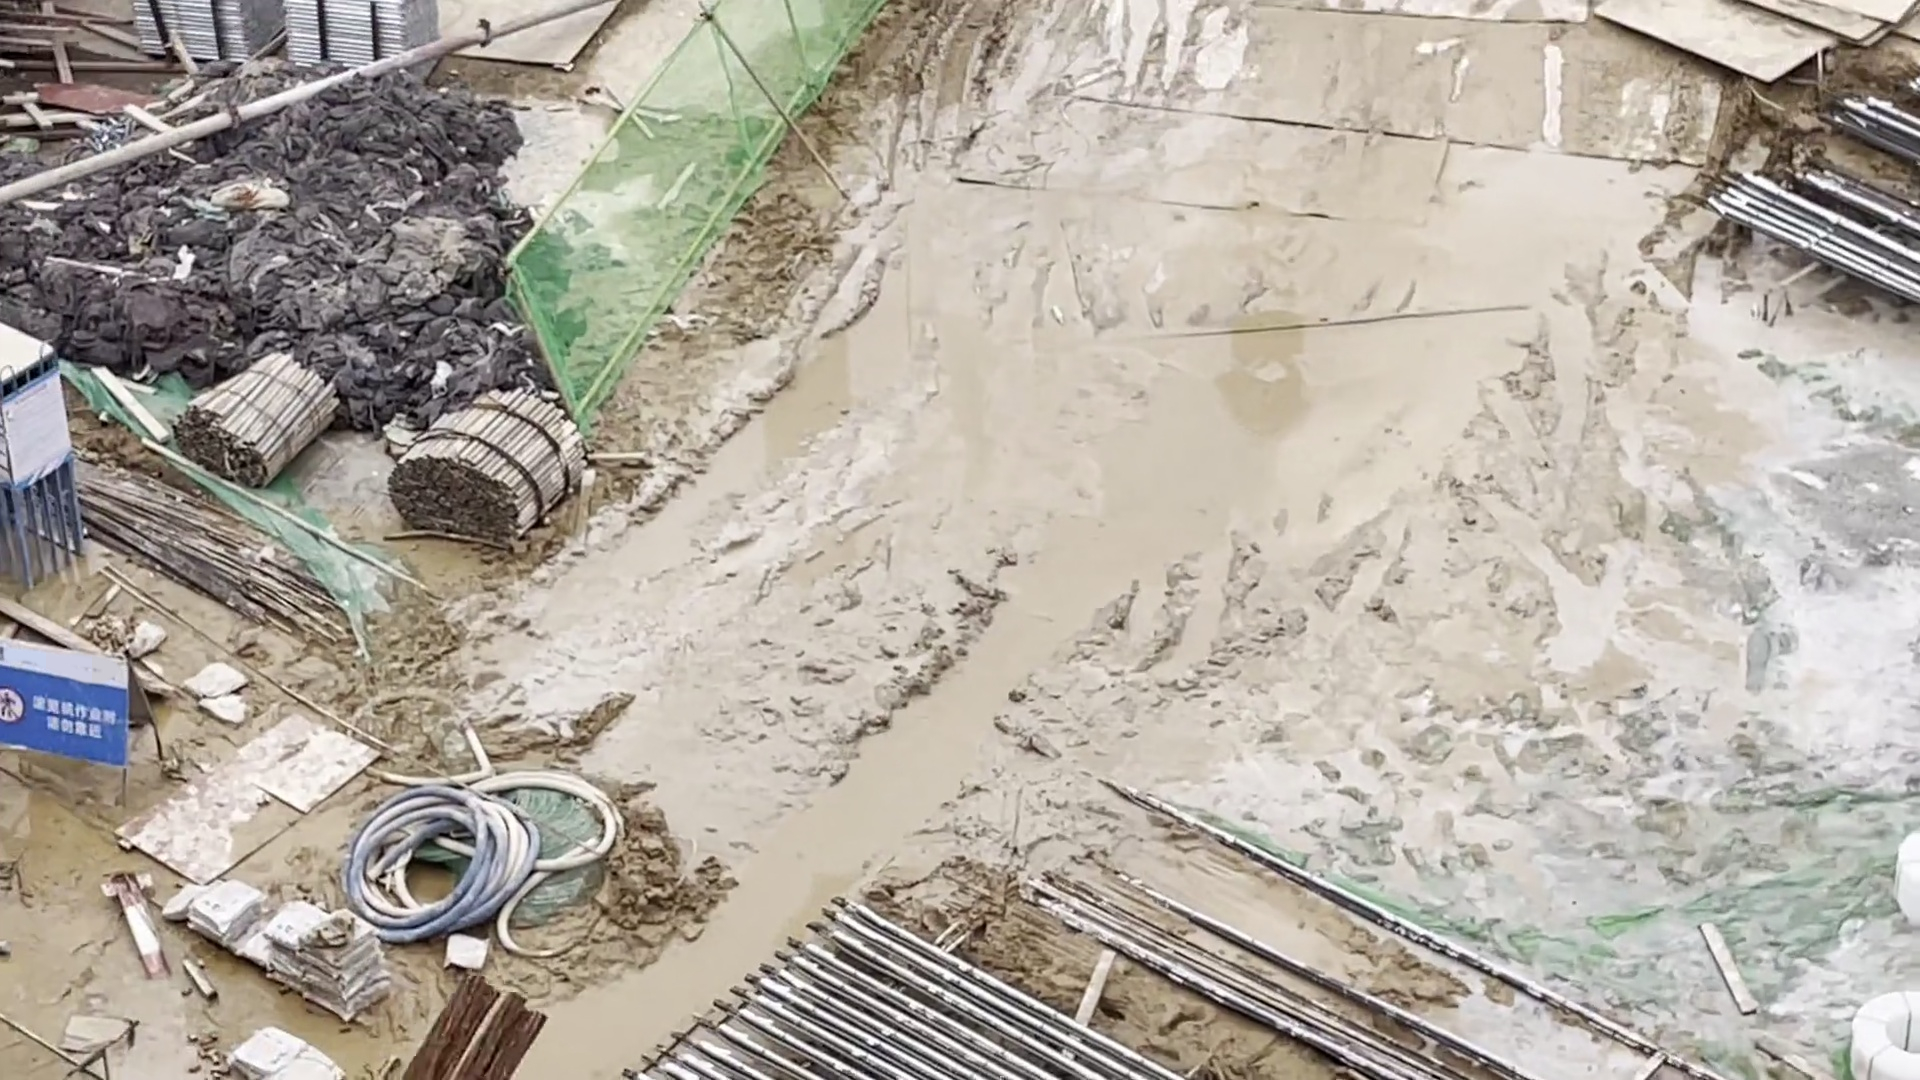scaffold: (277, 1, 440, 84), (131, 1, 277, 63)
slogan: (1, 687, 125, 765)
wood: (382, 389, 578, 545), (170, 356, 338, 483)
